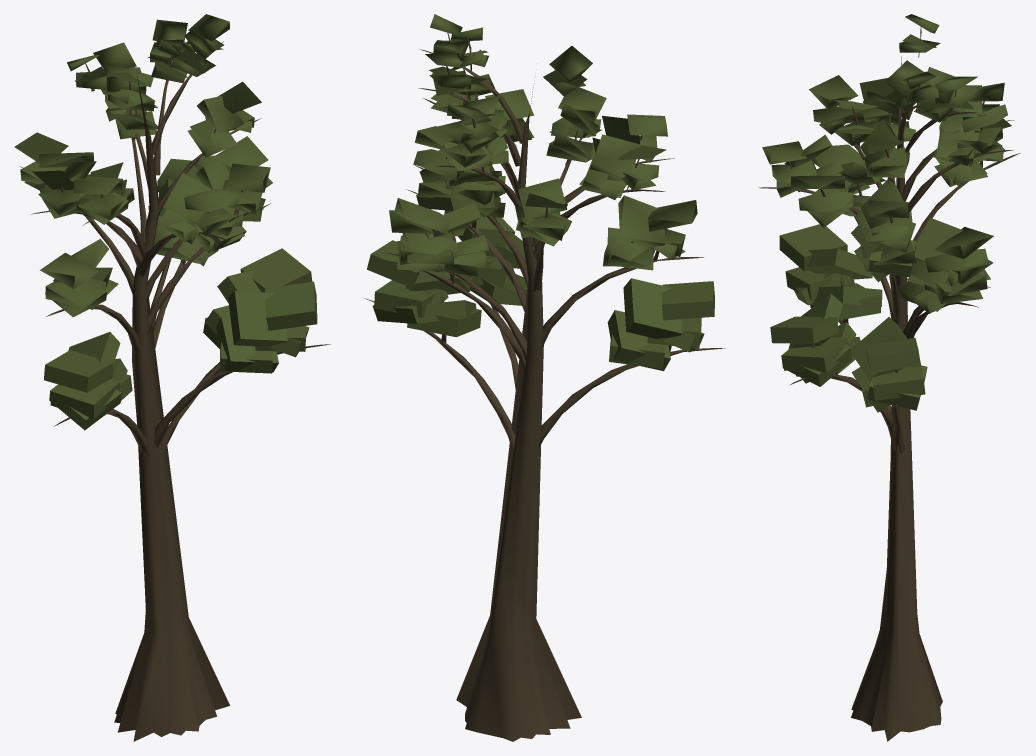
File: Tree_BaldCypress_003.fbx
3 renders of one model, left to right at view 1: azimuth 30°, elevation 25°; view 2: azimuth 150°, elevation 25°; view 3: azimuth 270°, elevation 25°, orthographic. The views are drawn at different scales.
Parts seen in each view (by area): view 1: Tree_BaldCypress.003; view 2: Tree_BaldCypress.003; view 3: Tree_BaldCypress.003.
Boxes of the visible parts, x1,y1,x2,y2 form: Tree_BaldCypress.003: (14,14,330,741); Tree_BaldCypress.003: (364,14,725,741); Tree_BaldCypress.003: (758,14,1020,741).
Bounding box in the file's own units: 1256 × 2622 × 948.
